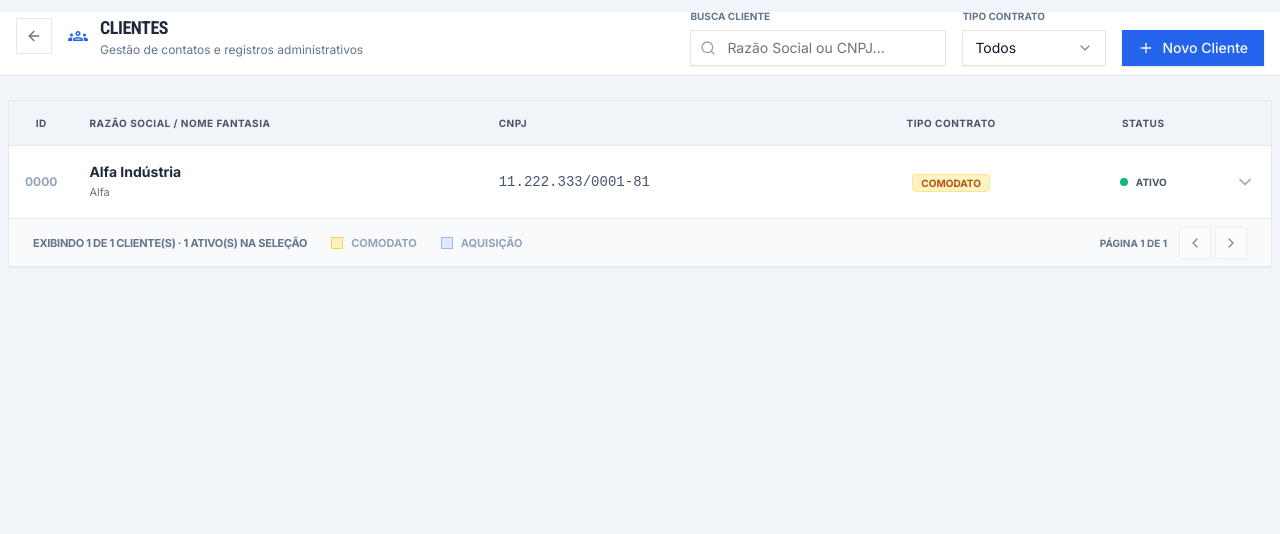
ClientesPage — fluxo integrado › carrega lista e expande linha mostrando contatos
This screenshot has width=1280, height=534.
Step 1. Click the text "Alfa Indústria" → (135,172), box [89,163,181,180]
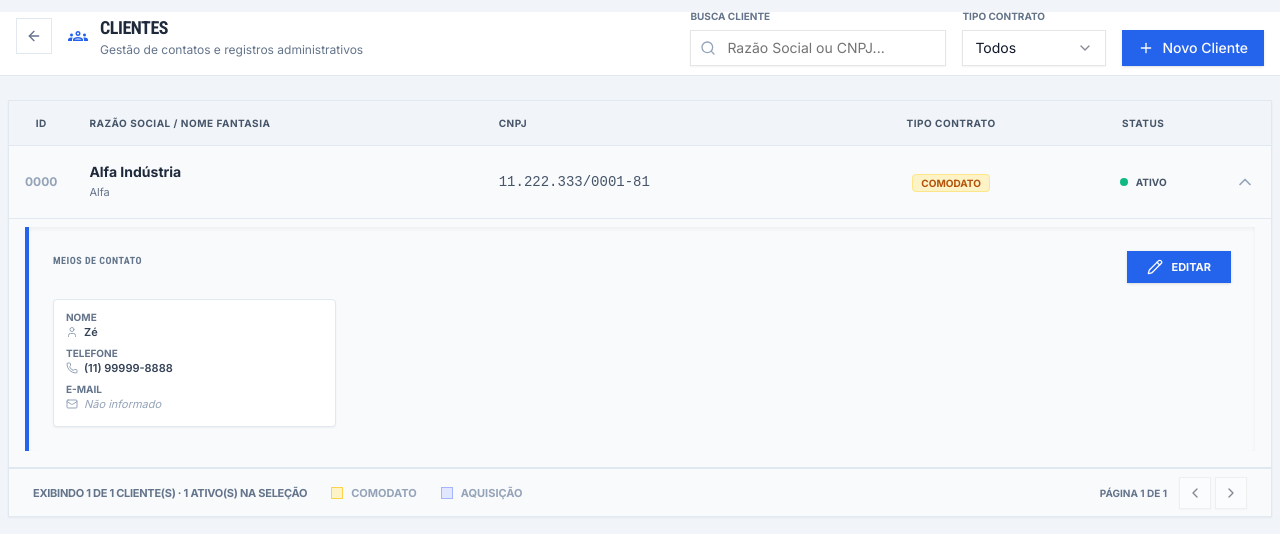
Result: the heading "Meios de Contato" is shown at [53,255,142,266]
Result: the text "Zé" is shown at [66,325,98,339]
